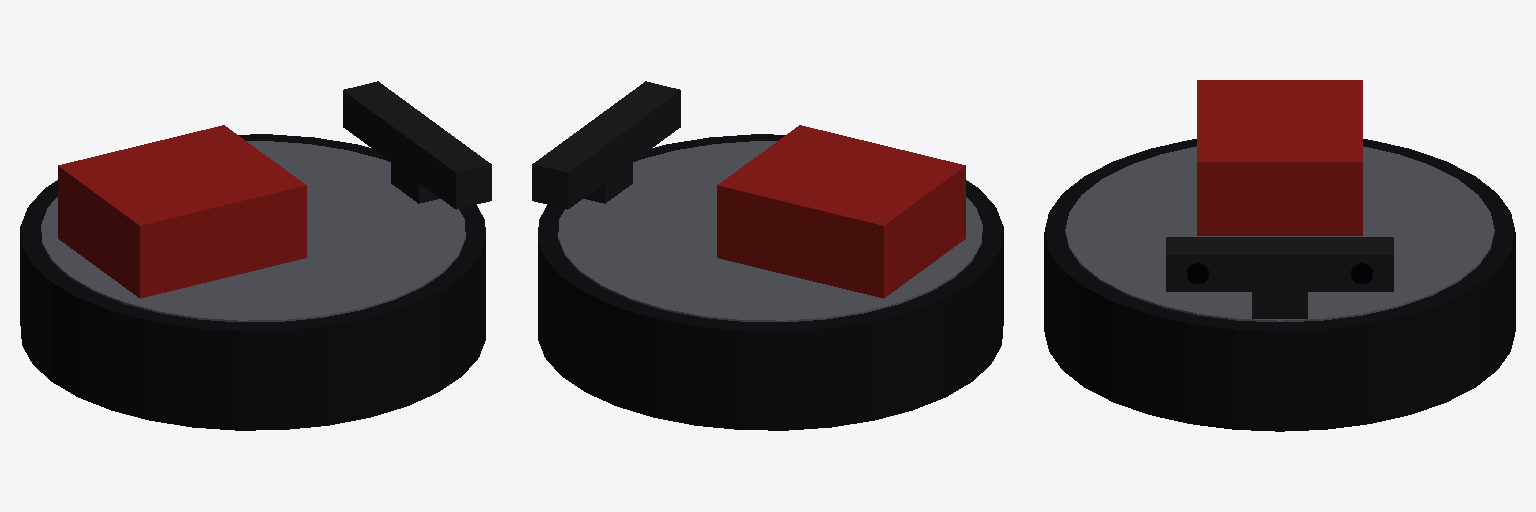
The robot description file, URDF, robot "roomba550_d1000":
<?xml version="1.0"?>
<!--
  Roomba 550 + MYNT EYE D1000-120 for the Isaac Sim training twin.

  Frames match the real robot (robot.launch.py camera_mount_tf + the D1000 driver's /tf_static,
  read from the fresh_map8 recording, see twin/isaac/README.md):
    base_link                  Roomba centre on the floor, x forward, z up
    camera_link                lens centre line, 0.153 m ahead, 0.13 m up (tape measure)
    camera_left_optical_frame  y +0.05919 (baseline 0.118378 m), z forward / x right / y down
    camera_right_optical_frame y -0.05919
    camera_imu_frame           child of the left optical frame, values copied from the driver's TF
  Drive: wheel base 0.235 m, wheel diameter 0.072 m (roomba_driver_robot.yaml / kinematics.rs).
  Casters: a front caster wheel and a rear skid, modelled as spheres on base_link; the Isaac Sim
  build script gives them a zero-friction material.
-->
<robot name="roomba550_d1000">

  <material name="roomba_black"><color rgba="0.08 0.08 0.09 1"/></material>
  <material name="roomba_grey"><color rgba="0.35 0.36 0.38 1"/></material>
  <material name="wheel_black"><color rgba="0.03 0.03 0.03 1"/></material>
  <material name="camera_black"><color rgba="0.12 0.12 0.13 1"/></material>
  <material name="lens"><color rgba="0.02 0.02 0.05 1"/></material>
  <material name="payload"><color rgba="0.55 0.12 0.10 1"/></material>

  <!-- ===================== base ===================== -->
  <link name="base_link">
    <inertial>
      <!-- Roomba + Jetson + Ridgid pack ~4.2 kg, centre of mass slightly ahead of the axle -->
      <origin xyz="0.01 0 0.05" rpy="0 0 0"/>
      <mass value="4.2"/>
      <inertia ixx="0.0326" ixy="0" ixz="0" iyy="0.0326" iyz="0" izz="0.0607"/>
    </inertial>
    <!-- body shell: 0.34 m diameter, bottom 12 mm above the floor, top at 0.092 m -->
    <visual name="body">
      <origin xyz="0 0 0.052" rpy="0 0 0"/>
      <geometry><cylinder radius="0.17" length="0.080"/></geometry>
      <material name="roomba_black"/>
    </visual>
    <visual name="top_plate">
      <origin xyz="0 0 0.0925" rpy="0 0 0"/>
      <geometry><cylinder radius="0.155" length="0.002"/></geometry>
      <material name="roomba_grey"/>
    </visual>
    <!-- Jetson + power bank + Ridgid pack on the lid (visual only) -->
    <visual name="payload">
      <origin xyz="-0.06 0 0.122" rpy="0 0 0"/>
      <geometry><box size="0.14 0.12 0.06"/></geometry>
      <material name="payload"/>
    </visual>
    <!-- camera mast from the lid up to the D1000 -->
    <visual name="camera_mast">
      <origin xyz="0.140 0 0.105" rpy="0 0 0"/>
      <geometry><box size="0.025 0.040 0.024"/></geometry>
      <material name="camera_black"/>
    </visual>
    <collision name="body">
      <origin xyz="0 0 0.052" rpy="0 0 0"/>
      <geometry><cylinder radius="0.17" length="0.080"/></geometry>
    </collision>
    <collision name="payload">
      <origin xyz="-0.06 0 0.122" rpy="0 0 0"/>
      <geometry><box size="0.14 0.12 0.06"/></geometry>
    </collision>
    <!-- front caster wheel and rear skid -->
    <collision name="caster_front">
      <origin xyz="0.13 0 0.015" rpy="0 0 0"/>
      <geometry><sphere radius="0.015"/></geometry>
    </collision>
    <collision name="caster_rear">
      <origin xyz="-0.13 0 0.017" rpy="0 0 0"/>
      <geometry><sphere radius="0.015"/></geometry>
    </collision>
  </link>

  <!-- ===================== wheels ===================== -->
  <link name="left_wheel_link">
    <inertial>
      <mass value="0.15"/>
      <inertia ixx="5.4e-5" ixy="0" ixz="0" iyy="9.7e-5" iyz="0" izz="5.4e-5"/>
    </inertial>
    <visual>
      <origin xyz="0 0 0" rpy="1.5707963 0 0"/>
      <geometry><cylinder radius="0.036" length="0.020"/></geometry>
      <material name="wheel_black"/>
    </visual>
    <collision>
      <origin xyz="0 0 0" rpy="1.5707963 0 0"/>
      <geometry><cylinder radius="0.036" length="0.020"/></geometry>
    </collision>
  </link>
  <joint name="left_wheel_joint" type="continuous">
    <parent link="base_link"/>
    <child link="left_wheel_link"/>
    <origin xyz="0 0.1175 0.036" rpy="0 0 0"/>
    <axis xyz="0 1 0"/>
    <limit effort="2.0" velocity="12.0"/>
    <dynamics damping="0.0" friction="0.0"/>
  </joint>

  <link name="right_wheel_link">
    <inertial>
      <mass value="0.15"/>
      <inertia ixx="5.4e-5" ixy="0" ixz="0" iyy="9.7e-5" iyz="0" izz="5.4e-5"/>
    </inertial>
    <visual>
      <origin xyz="0 0 0" rpy="1.5707963 0 0"/>
      <geometry><cylinder radius="0.036" length="0.020"/></geometry>
      <material name="wheel_black"/>
    </visual>
    <collision>
      <origin xyz="0 0 0" rpy="1.5707963 0 0"/>
      <geometry><cylinder radius="0.036" length="0.020"/></geometry>
    </collision>
  </link>
  <joint name="right_wheel_joint" type="continuous">
    <parent link="base_link"/>
    <child link="right_wheel_link"/>
    <origin xyz="0 -0.1175 0.036" rpy="0 0 0"/>
    <axis xyz="0 1 0"/>
    <limit effort="2.0" velocity="12.0"/>
    <dynamics damping="0.0" friction="0.0"/>
  </joint>

  <!-- ===================== camera ===================== -->
  <!-- D1000-120 housing ~165 x 31.5 x 29.6 mm; camera_link sits on the lens line at the front face -->
  <link name="camera_link">
    <inertial>
      <origin xyz="-0.015 0 0" rpy="0 0 0"/>
      <mass value="0.2"/>
      <inertia ixx="4.7e-4" ixy="0" ixz="0" iyy="3.2e-5" iyz="0" izz="4.7e-4"/>
    </inertial>
    <visual name="housing">
      <origin xyz="-0.0155 0 0" rpy="0 0 0"/>
      <geometry><box size="0.030 0.165 0.0296"/></geometry>
      <material name="camera_black"/>
    </visual>
    <visual name="lens_left">
      <origin xyz="0.0005 0.05919 0" rpy="0 1.5707963 0"/>
      <geometry><cylinder radius="0.008" length="0.002"/></geometry>
      <material name="lens"/>
    </visual>
    <visual name="lens_right">
      <origin xyz="0.0005 -0.05919 0" rpy="0 1.5707963 0"/>
      <geometry><cylinder radius="0.008" length="0.002"/></geometry>
      <material name="lens"/>
    </visual>
    <collision>
      <origin xyz="-0.0155 0 0" rpy="0 0 0"/>
      <geometry><box size="0.030 0.165 0.0296"/></geometry>
    </collision>
  </link>
  <joint name="camera_mount_joint" type="fixed">
    <parent link="base_link"/>
    <child link="camera_link"/>
    <origin xyz="0.153 0 0.13" rpy="0 0 0"/>
  </joint>

  <link name="camera_left_optical_frame"/>
  <joint name="camera_left_optical_joint" type="fixed">
    <parent link="camera_link"/>
    <child link="camera_left_optical_frame"/>
    <origin xyz="0 0.0591889534 0" rpy="-1.5707963268 0 -1.5707963268"/>
  </joint>

  <link name="camera_right_optical_frame"/>
  <joint name="camera_right_optical_joint" type="fixed">
    <parent link="camera_link"/>
    <child link="camera_right_optical_frame"/>
    <origin xyz="0 -0.0591889534 0" rpy="-1.5707963268 0 -1.5707963268"/>
  </joint>

  <!-- driver TF: left optical -> imu, xyzw (0.999987, 0.002164, 0.003472, -0.002883),
       i.e. x right, y up, z backward relative to the robot -->
  <link name="camera_imu_frame"/>
  <joint name="camera_imu_joint" type="fixed">
    <parent link="camera_left_optical_frame"/>
    <child link="camera_imu_frame"/>
    <origin xyz="0.0477928466 -0.0020221540 -0.0012811425" rpy="-3.135841 -0.006957 0.004309"/>
  </joint>

</robot>

--- Render facts (derived) ---
3 views of the same robot in one strip: view 1: azimuth 30°, elevation 25°; view 2: azimuth 150°, elevation 25°; view 3: azimuth 270°, elevation 25° (orthographic).
Model roomba550_d1000 with 7 links and 6 joints (2 continuous, 4 fixed), rooted at base_link, posed every joint at zero.
Links seen in each view (by area): view 1: base_link, camera_link; view 2: base_link, camera_link; view 3: base_link, camera_link.
Boxes of the visible links, x1,y1,x2,y2 form: base_link: (20, 125, 485, 430); camera_link: (343, 81, 491, 209); base_link: (538, 125, 1003, 430); camera_link: (532, 81, 680, 209); base_link: (1044, 80, 1515, 431); camera_link: (1166, 237, 1393, 291).
Bounding box of the posed robot: 0.34 × 0.34 × 0.152 m (x, y, z).
Geometry: primitives only (box / cylinder / sphere), no mesh files.
